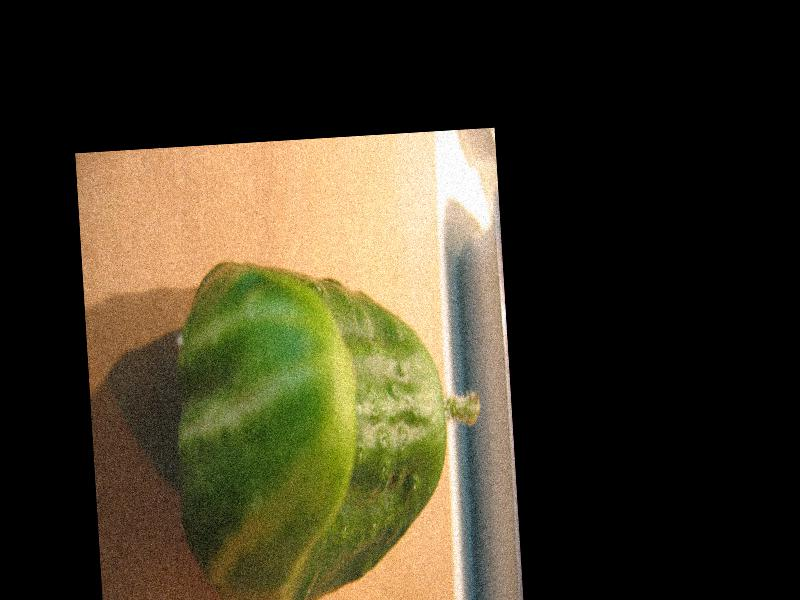Cucumber: (164, 243, 492, 600)
